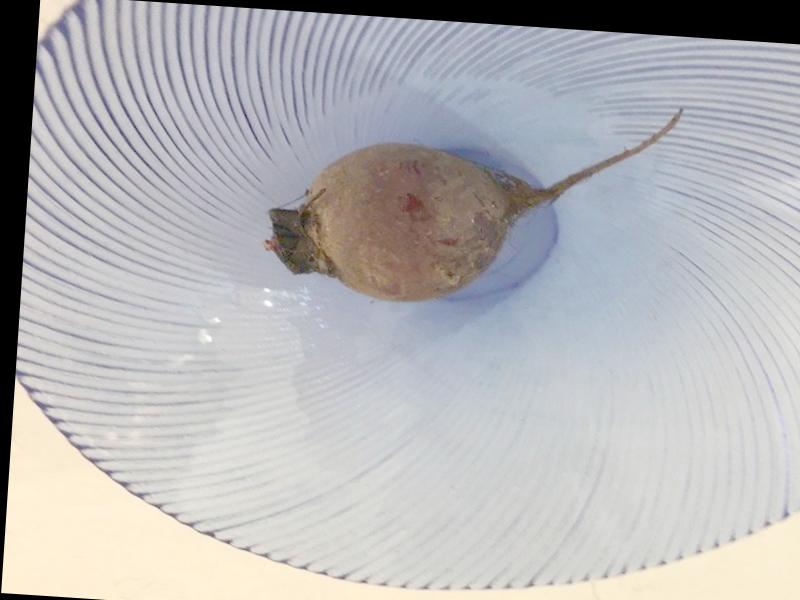Beet: (263, 82, 682, 317)
